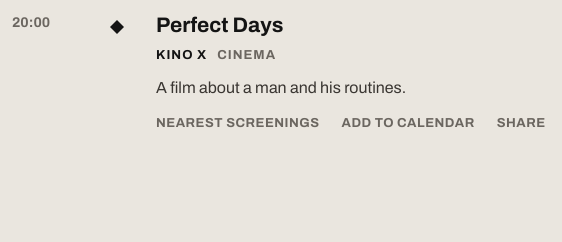
Test case: EventCard › opens an Add-to-calendar menu with Google + .ics options
Click the button "Add to calendar" at (408, 123), box [342,114,475,133]
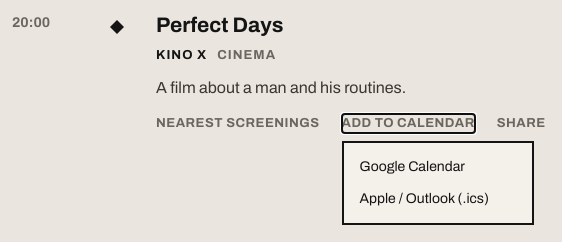
expect the menu is shown: met, box [342,141,534,225]
expect the menu item "Apple / Outlook (.ics)" is shown: met, box [352,183,524,215]
